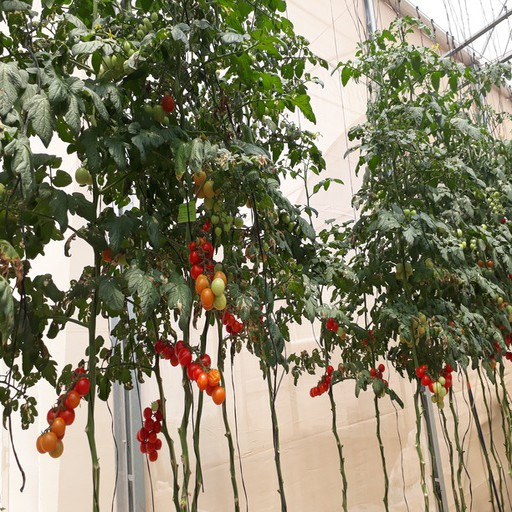green tomato bunch: (191, 168, 244, 235), (103, 12, 158, 70), (138, 92, 175, 125), (75, 152, 105, 186), (485, 189, 505, 220), (494, 292, 512, 321), (447, 226, 467, 250), (399, 205, 420, 217)
red tomato bunch: (150, 337, 225, 404), (36, 366, 89, 459), (189, 237, 229, 310), (135, 398, 162, 463), (214, 299, 246, 337), (309, 366, 335, 400), (321, 314, 349, 344), (411, 366, 439, 392), (371, 365, 389, 394)
